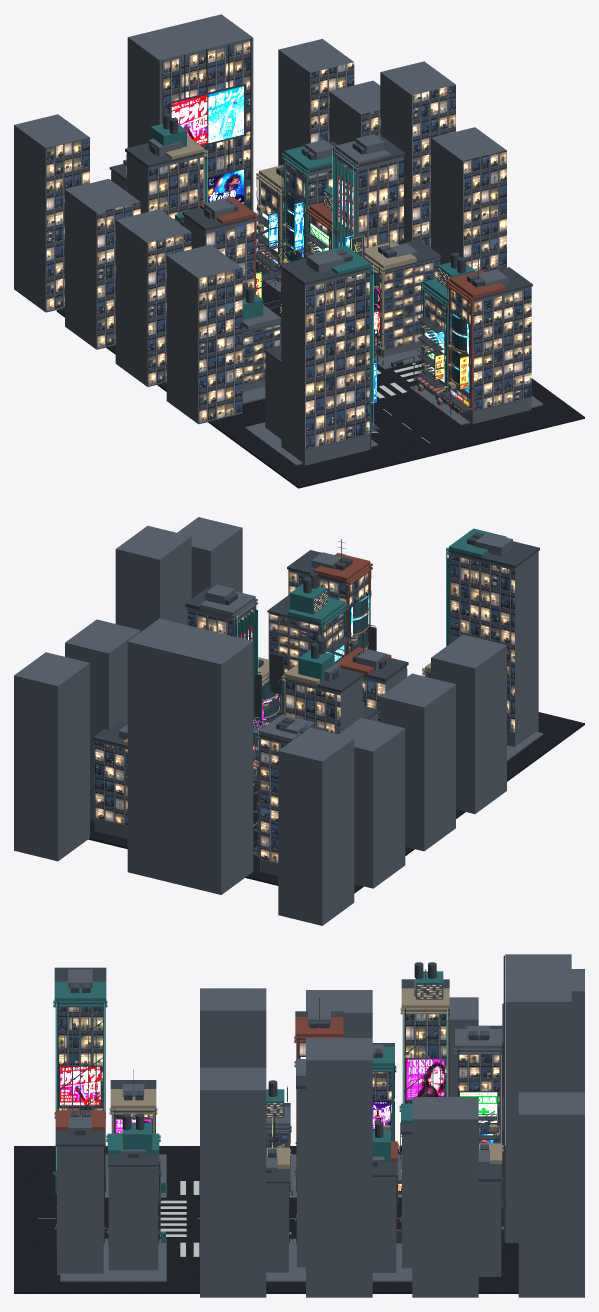
File: NeonDistrict.fbx
The picture shows the model from 3 angles, top to bottom: view 1: azimuth 30°, elevation 25°; view 2: azimuth 150°, elevation 25°; view 3: azimuth 270°, elevation 25°; orthographic projection. The views are drawn at different scales.
Visible parts, largest first — view 1: Skyline_Concrete, Skyline_Facade, Ground_Asphalt, Block_01_Facade, Block_08_Facade, Landmark_Concrete, Block_01_Concrete, Landmark_Facade, Landmark_Signs, Block_11_Facade, Block_10_Facade, Block_06_Facade (+33 smaller); view 2: Skyline_Concrete, Landmark_Concrete, Block_01_Facade, Block_01_Concrete, Ground_Asphalt, Block_14_Facade, Block_09_Facade, Block_07_Facade, Block_06_Facade, V3_Architecture_09_Teal, Block_06_Concrete, V3_Architecture_08_Brick (+21 smaller); view 3: Skyline_Concrete, Ground_Asphalt, Landmark_Concrete, Block_08_Concrete, Block_09_Concrete, Pavement_Concrete, Block_01_Facade, Block_14_Concrete, Block_12_Concrete, V3_Architecture_01_Teal, Block_10_Concrete, Block_06_Facade (+30 smaller).
Part boxes in pixels (x1,y1,x2,y2): Skyline_Concrete: [14, 39, 506, 423]; Skyline_Facade: [46, 62, 506, 423]; Ground_Asphalt: [56, 262, 584, 488]; Block_01_Facade: [305, 272, 369, 450]; Block_08_Facade: [451, 288, 531, 411]; Landmark_Concrete: [127, 14, 253, 210]; Block_01_Concrete: [281, 250, 369, 465]; Landmark_Facade: [163, 41, 250, 208]; Landmark_Signs: [171, 86, 243, 204]; Block_11_Facade: [337, 157, 403, 248]; Block_10_Facade: [372, 259, 440, 350]; Block_06_Facade: [126, 155, 203, 218]; Skyline_Concrete: [14, 517, 506, 925]; Landmark_Concrete: [127, 618, 253, 894]; Block_01_Facade: [450, 555, 514, 733]; Block_01_Concrete: [450, 533, 538, 746]; Ground_Asphalt: [88, 712, 584, 893]; Block_14_Facade: [94, 742, 127, 826]; Block_09_Facade: [268, 613, 343, 706]; Block_07_Facade: [260, 738, 285, 863]; Block_06_Facade: [285, 682, 340, 734]; V3_Architecture_09_Teal: [287, 584, 348, 655]; Block_06_Concrete: [286, 663, 362, 731]; V3_Architecture_08_Brick: [314, 553, 372, 654]; Skyline_Concrete: [200, 969, 584, 1297]; Ground_Asphalt: [14, 1146, 518, 1293]; Landmark_Concrete: [505, 954, 571, 1242]; Block_08_Concrete: [57, 1116, 103, 1275]; Block_09_Concrete: [108, 1140, 158, 1270]; Pavement_Concrete: [60, 1154, 412, 1281]; Block_01_Facade: [58, 1007, 102, 1110]; Block_14_Concrete: [478, 1149, 501, 1276]; Block_12_Concrete: [372, 1156, 396, 1272]; V3_Architecture_01_Teal: [53, 981, 107, 1193]; Block_10_Concrete: [266, 1156, 288, 1272]; Block_06_Facade: [405, 1014, 446, 1103].
Size of the model in its own units: 56 by 40.32 by 86.
Materials: 16 (4 with a texture image).
